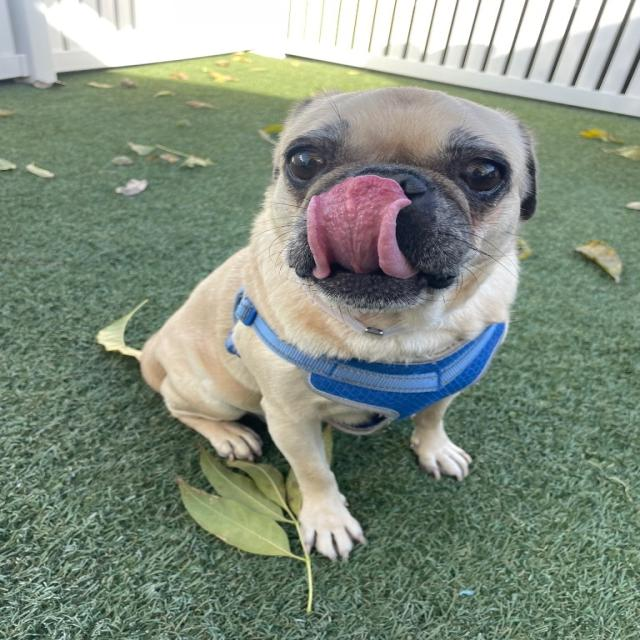pug_dog: (258, 77, 549, 336)
